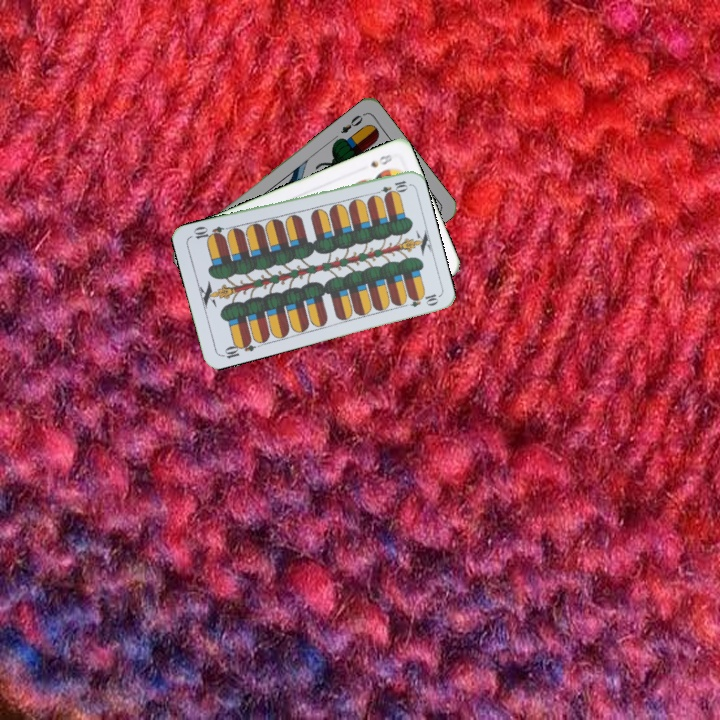E10: (218, 335, 258, 361), (370, 176, 410, 198)
EO: (337, 111, 366, 136)
S8: (366, 150, 395, 170)
